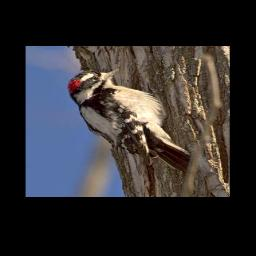Woodpecker: (66, 68, 191, 173)
